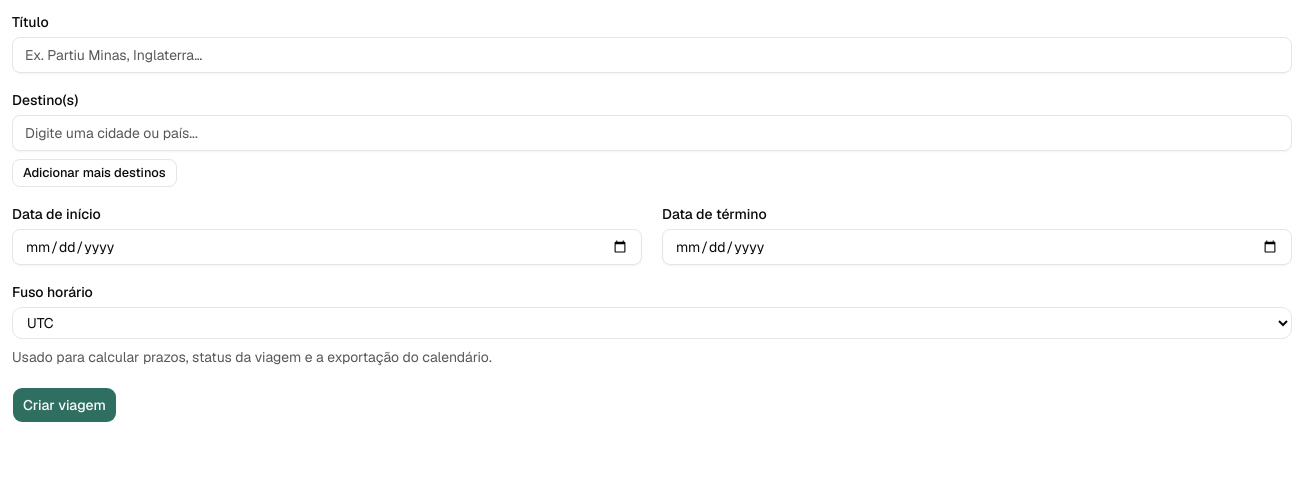
Test case: TripForm › adds and removes destination rows
Check: the button "remover destino" is not shown
Click the button "Adicionar mais destinos": {"x": 94, "y": 173} [12,159,177,187]
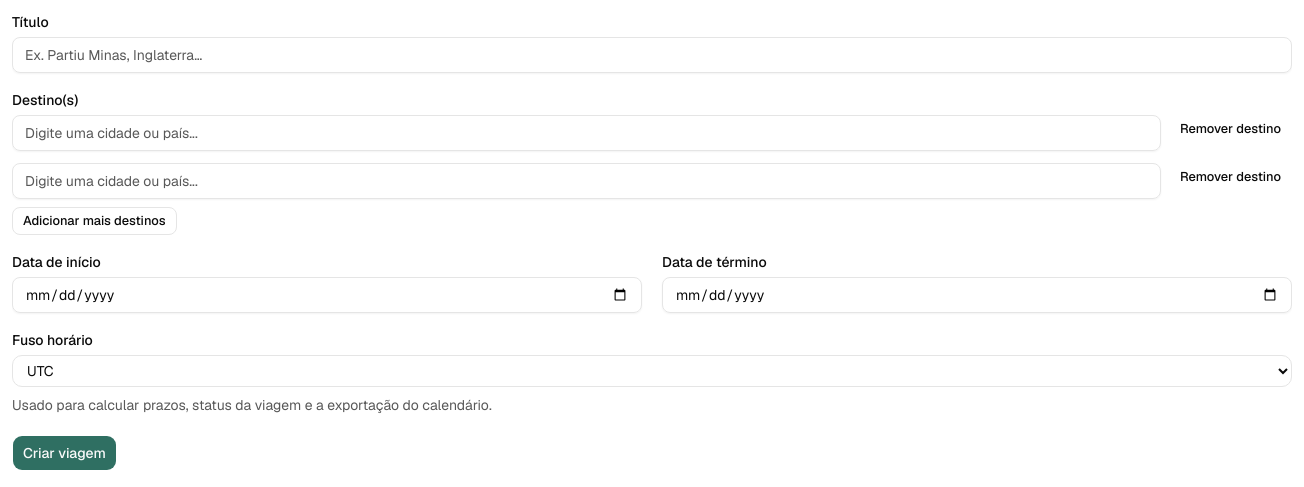
Check: the number of buttons "Remover destino" is 2
Click the 1st button "Remover destino": {"x": 1230, "y": 129} [1169,115,1292,143]
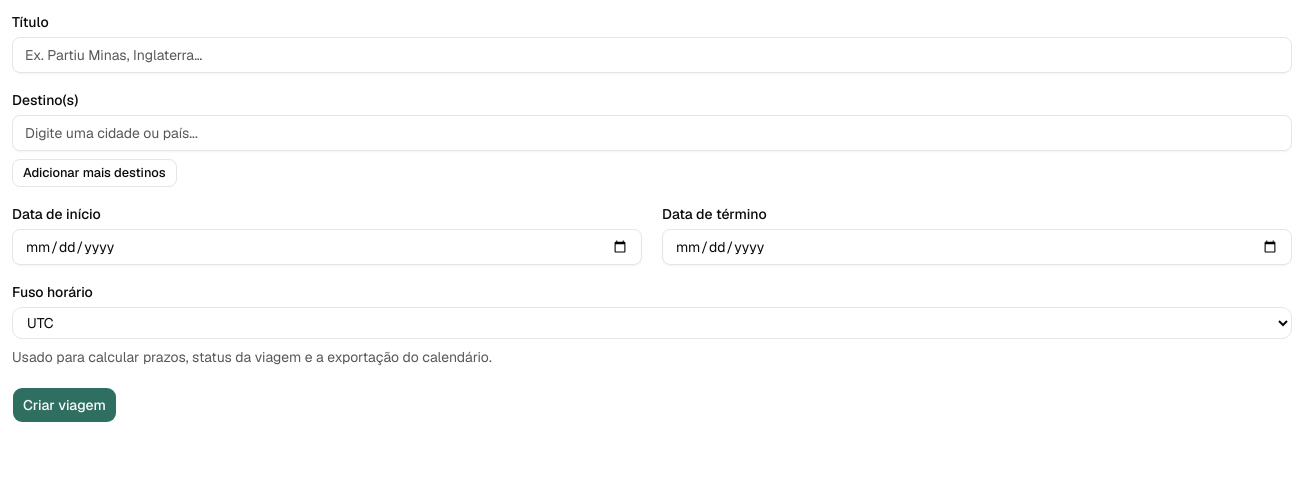
Check: the button "Remover destino" is gone
